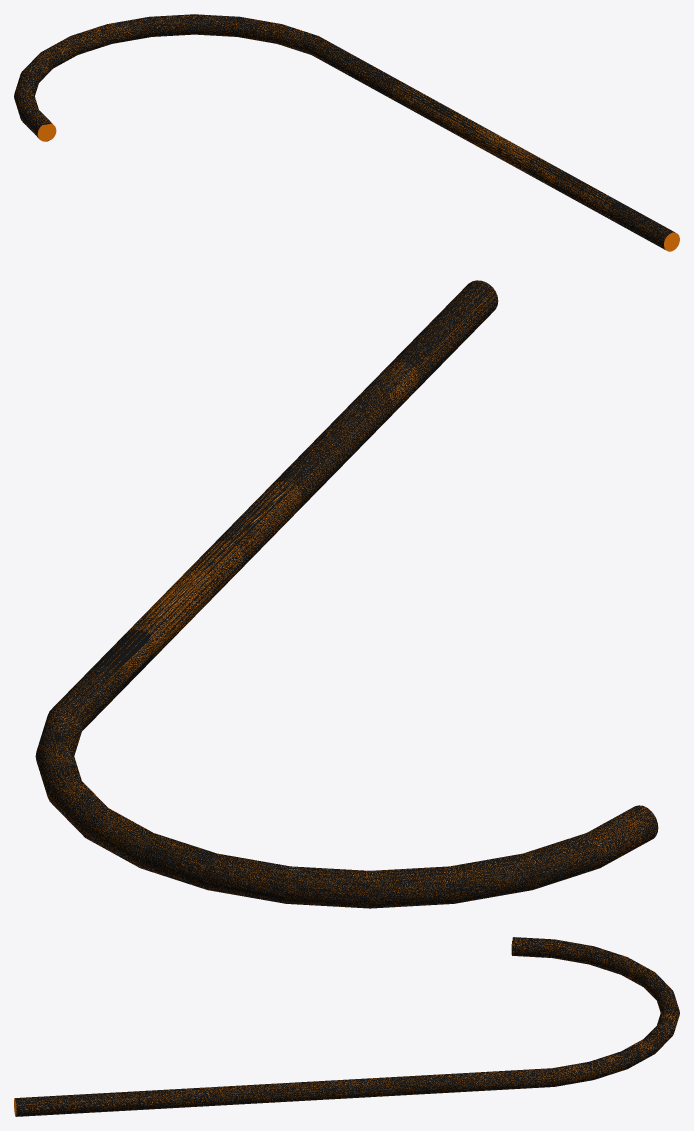
The model's file is original-2.obj.
The picture shows the model from 3 angles, top to bottom: view 1: azimuth 30°, elevation 25°; view 2: azimuth 150°, elevation 25°; view 3: azimuth 270°, elevation 25°; orthographic projection. The views are drawn at different scales.
Parts seen in each view (by area): view 1: mesh1/mesh1-geometry#mesh1-geometry; view 2: mesh1/mesh1-geometry#mesh1-geometry; view 3: mesh1/mesh1-geometry#mesh1-geometry.
Part boxes in pixels (x1=…): mesh1/mesh1-geometry#mesh1-geometry: x1=14, y1=14, x2=679, y2=251; mesh1/mesh1-geometry#mesh1-geometry: x1=35, y1=280, x2=658, y2=908; mesh1/mesh1-geometry#mesh1-geometry: x1=14, y1=937, x2=679, y2=1116.
Size of the model in its own units: 0.5279 by 0.025 by 0.8797.
